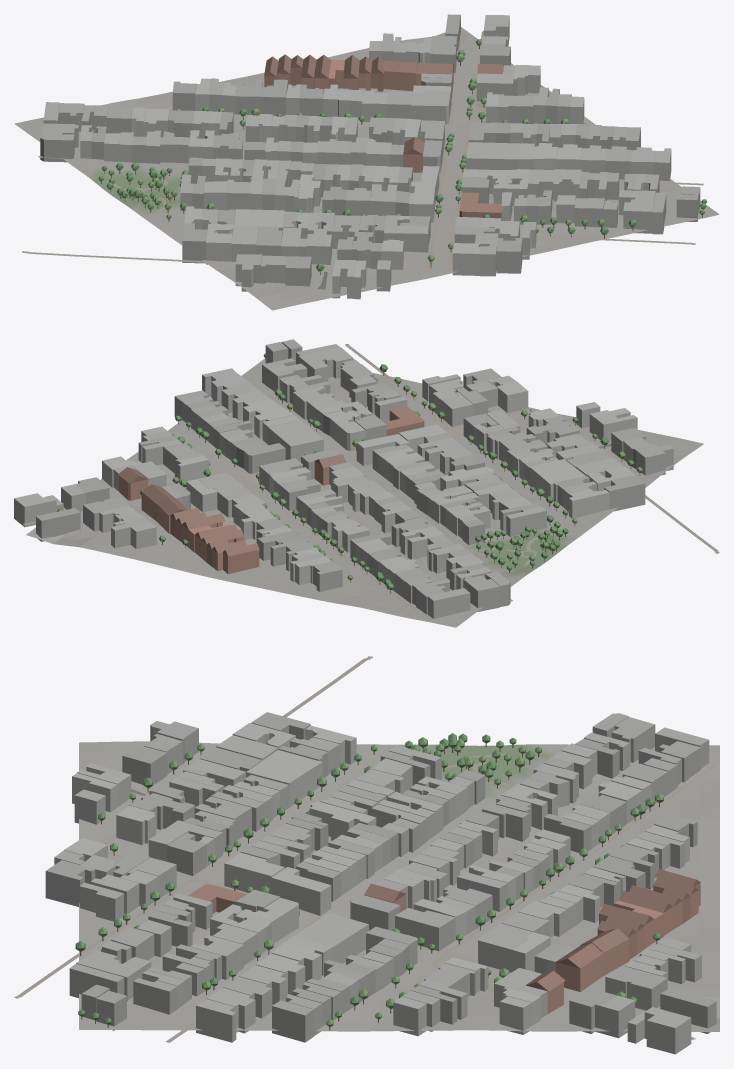
Rendered from tile_-8_-7.glb.
The picture shows the model from 3 angles, top to bottom: view 1: azimuth 30°, elevation 25°; view 2: azimuth 150°, elevation 25°; view 3: azimuth 270°, elevation 25°; orthographic projection. The views are drawn at different scales.
Visible parts, largest first — view 1: buildings, terrain, props, roads; view 2: buildings, terrain, props, roads; view 3: buildings, terrain, props, roads.
Boxes of the visible parts, <box> form: buildings: <box>40,14,700,299</box>; terrain: <box>14,27,719,310</box>; props: <box>98,39,707,274</box>; roads: <box>21,31,703,289</box>; buildings: <box>14,339,673,618</box>; terrain: <box>26,358,703,627</box>; props: <box>57,353,642,593</box>; roads: <box>23,344,719,620</box>; buildings: <box>45,712,716,1054</box>; terrain: <box>79,741,719,1031</box>; props: <box>75,733,663,1030</box>; roads: <box>14,656,716,1042</box>.
Size of the model in its own units: 349 by 20.46 by 282.
